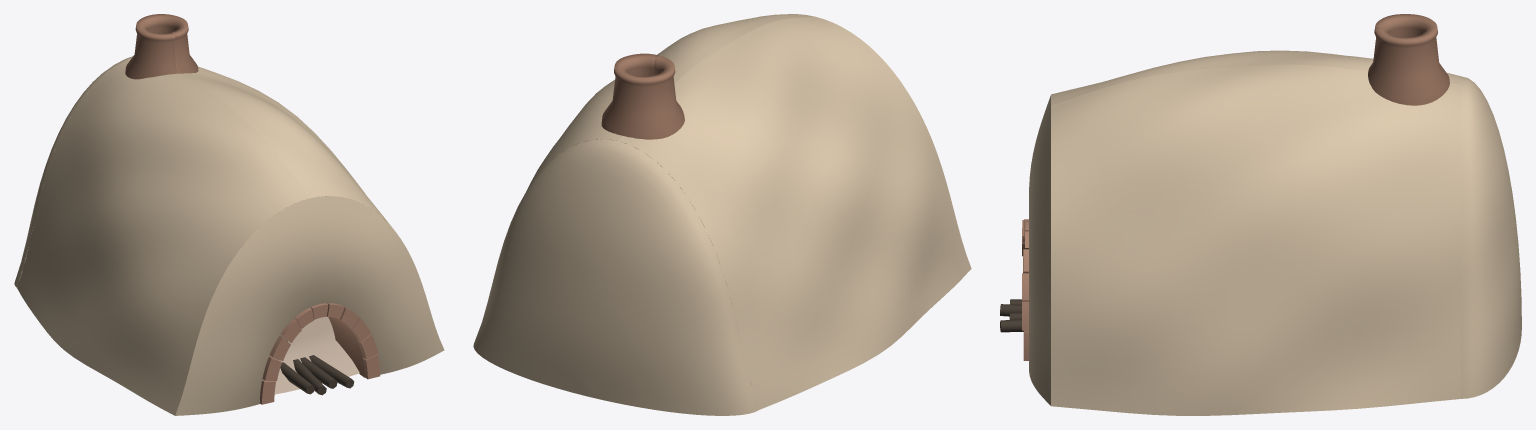
File: kiln-vault-v3.glb
3 views of the same model, side by side, from view 1: azimuth 30°, elevation 25°; view 2: azimuth 150°, elevation 25°; view 3: azimuth 270°, elevation 25° (orthographic). The views are drawn at different scales.
Parts seen in each view (by area): view 1: Hand plastered outer vault (×2), Earth around the firemouth, Hand built flue collar, Packed firing floor, Split wood in the firebox (×4), Rounded earthen heel, Recess into the firebox; view 2: Hand plastered outer vault (×2), Rounded earthen heel, Hand built flue collar; view 3: Hand plastered outer vault (×2), Rounded earthen heel, Hand built flue collar, Earth around the firemouth.
Part boxes in pixels (bbox=[...]): Hand plastered outer vault (×2): bbox=[17, 58, 393, 415]; Earth around the firemouth: bbox=[175, 196, 444, 415]; Hand built flue collar: bbox=[125, 14, 198, 79]; Packed firing floor: bbox=[274, 316, 359, 394]; Split wood in the firebox (×4): bbox=[280, 355, 354, 395]; Rounded earthen heel: bbox=[14, 56, 132, 287]; Recess into the firebox: bbox=[328, 317, 364, 377]; Hand plastered outer vault (×2): bbox=[527, 14, 971, 409]; Rounded earthen heel: bbox=[473, 139, 759, 415]; Hand built flue collar: bbox=[601, 53, 684, 139]; Hand plastered outer vault (×2): bbox=[1051, 50, 1460, 415]; Rounded earthen heel: bbox=[1461, 76, 1521, 398]; Hand built flue collar: bbox=[1368, 14, 1449, 105]; Earth around the firemouth: bbox=[1029, 95, 1050, 405].
Bounding box in the file's own units: 2.89 × 2.29 × 3.6.
